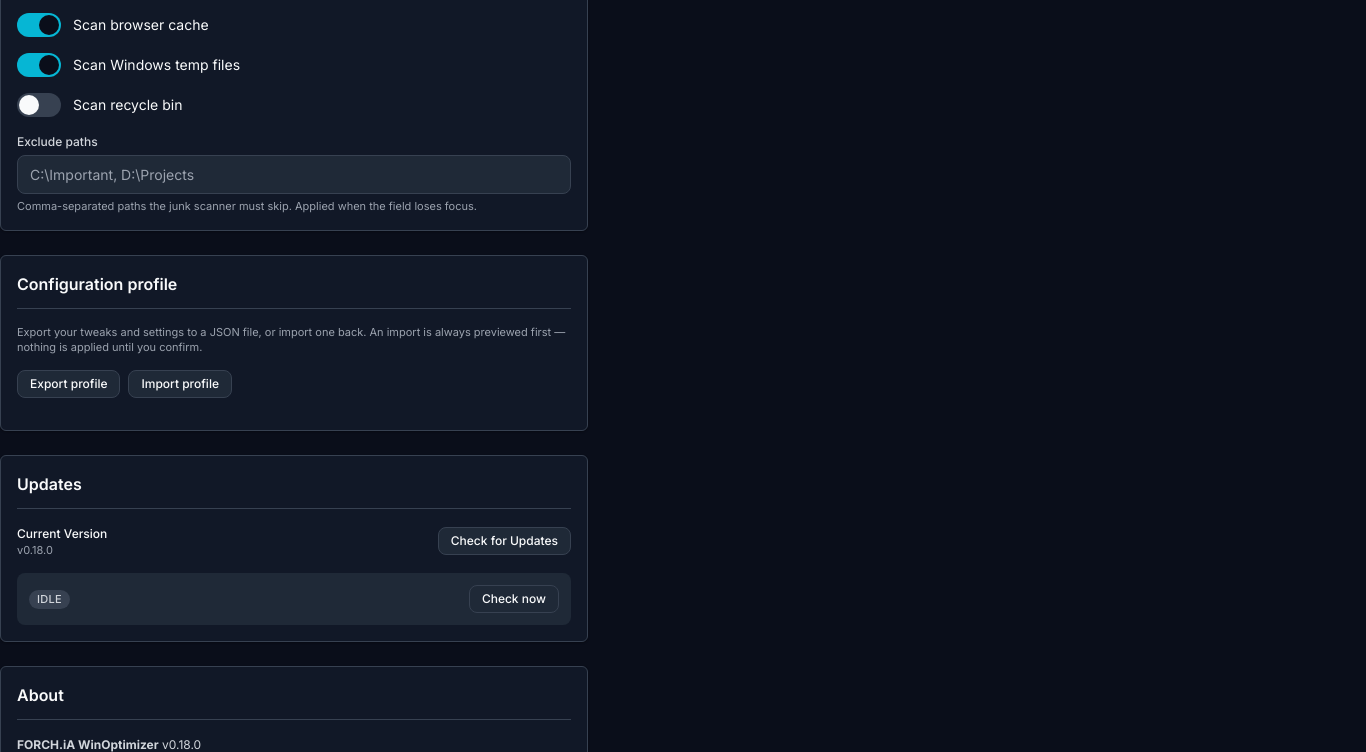
Test: Settings configuration profile (A3) › exports the profile to a JSON download and toasts the real result
The image size is (1366, 752).
(page scrolled)
What coordinates should you click on to do the following:
click the button with test id "profile-export"
I would click on:
 (69, 384)
Its box is x1=17 y1=370 x2=120 y2=398.
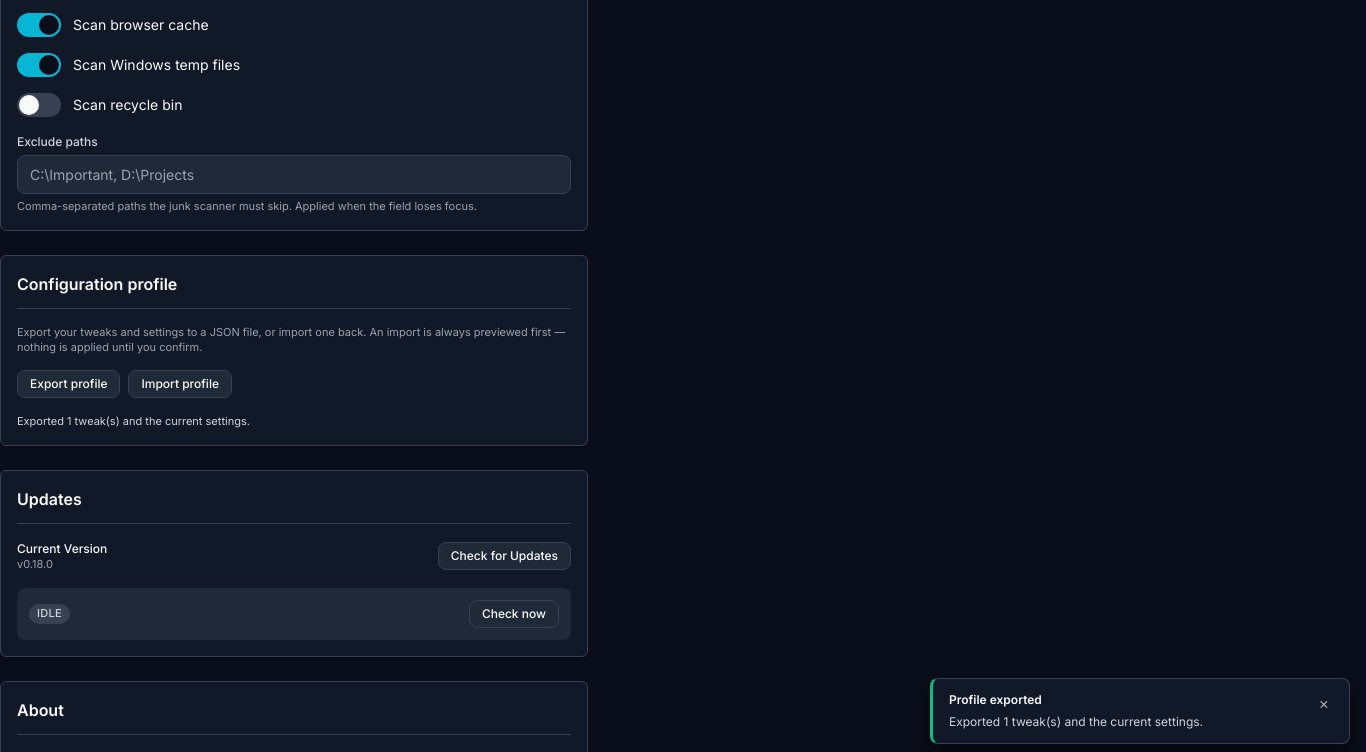
Expected: the message with test id "profile-result" shows "Exported 1 tweak", x1=17 y1=414 x2=250 y2=428
Expected: the element with test id "toast" is shown, x1=930 y1=678 x2=1350 y2=744
Expected: the text "Profile exported" is shown, x1=949 y1=692 x2=1042 y2=707
